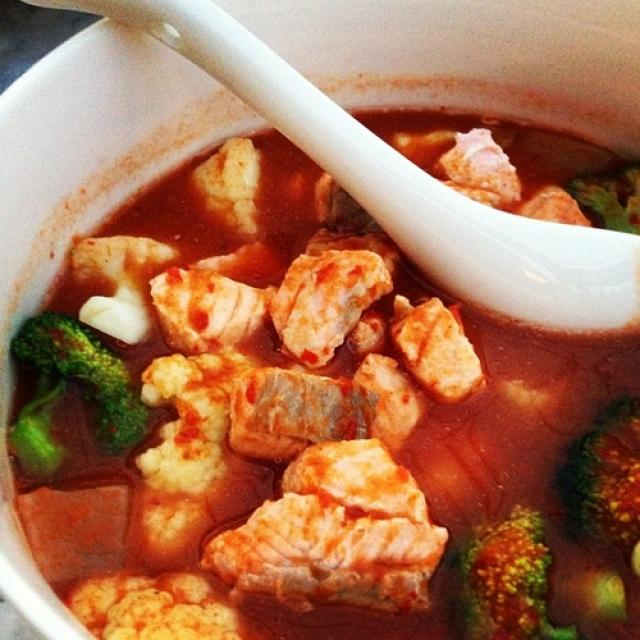汤锅炖物: (23, 60, 621, 611)
